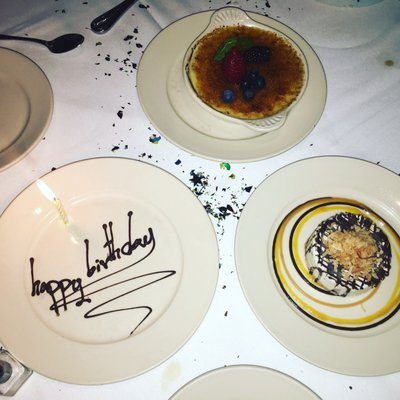salad: (0, 32, 84, 54)
sandwich: (90, 0, 140, 34)
